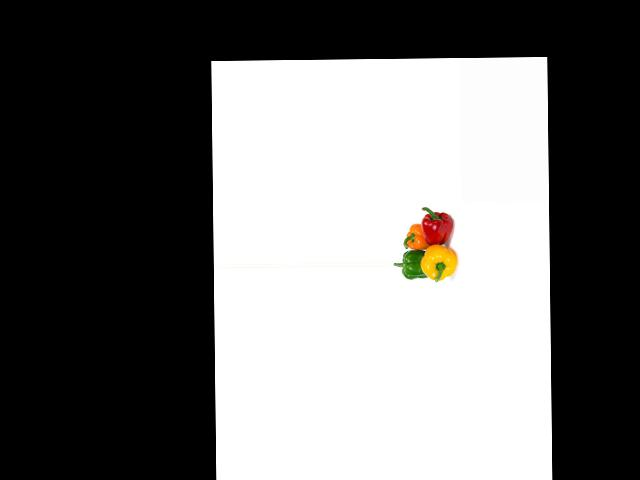bell_pepper: (420, 242, 458, 284)
